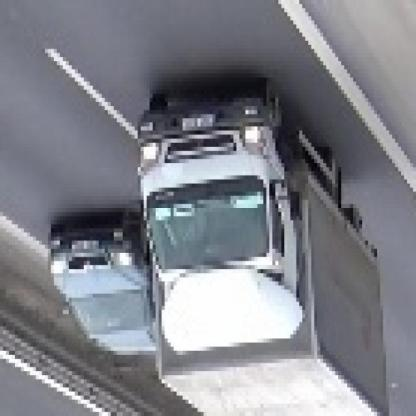truck: (130, 99, 387, 416)
